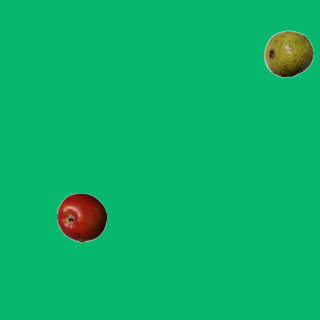Apple Braeburn: (56, 192, 106, 242)
Guava: (263, 28, 313, 78)
